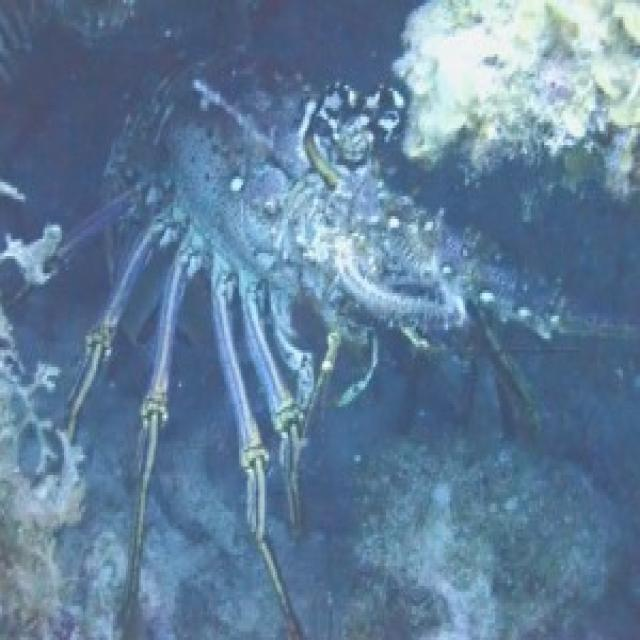lobsters: (93, 1, 523, 476)
